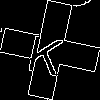K: (25, 25, 67, 76)
